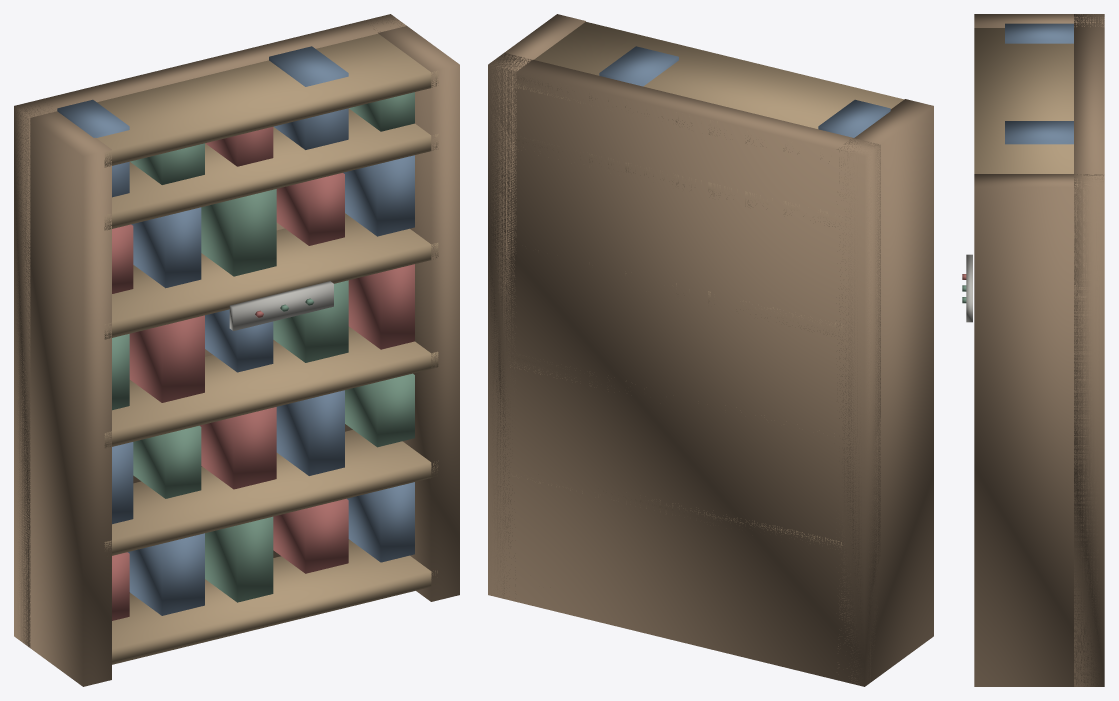
The model's file is library_stack_bay__squat.glb.
The picture shows the model from 3 angles, left to right: view 1: azimuth 30°, elevation 25°; view 2: azimuth 150°, elevation 25°; view 3: azimuth 270°, elevation 25°; orthographic projection. The views are drawn at different scales.
Visible parts, largest first — view 1: world; view 2: world; view 3: world.
Part boxes in pixels (bbox=[...]): world: bbox=[14, 14, 459, 686]; world: bbox=[488, 14, 933, 686]; world: bbox=[962, 14, 1104, 686].
Bounding box in the file's own units: 1.15 × 1.56 × 0.4007.
